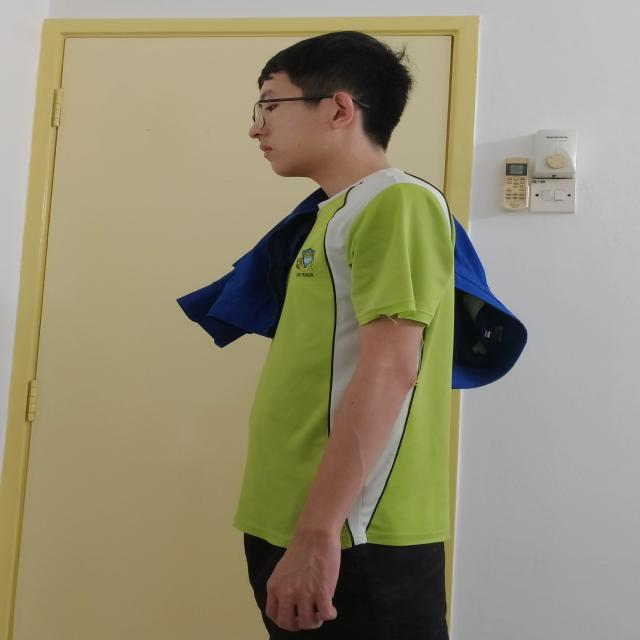person_without_labcoat: (177, 32, 526, 640)
